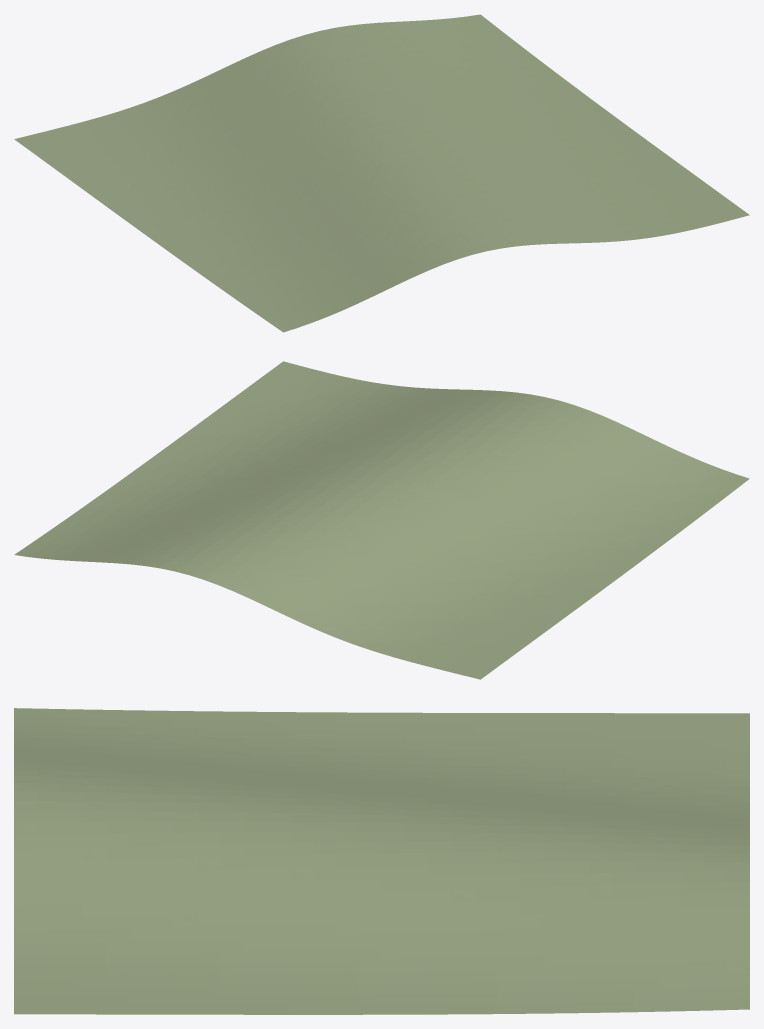
File: desert-6-4.glb
3 renders of one model, top to bottom at view 1: azimuth 30°, elevation 25°; view 2: azimuth 150°, elevation 25°; view 3: azimuth 270°, elevation 25°, orthographic. The views are drawn at different scales.
Visible parts, largest first — view 1: desert-6-4; view 2: desert-6-4; view 3: desert-6-4.
Part boxes in pixels (bbox=[...]): desert-6-4: bbox=[14, 14, 749, 332]; desert-6-4: bbox=[14, 361, 749, 679]; desert-6-4: bbox=[14, 708, 749, 1014].
Size of the model in its own units: 512 by 37.16 by 512.
